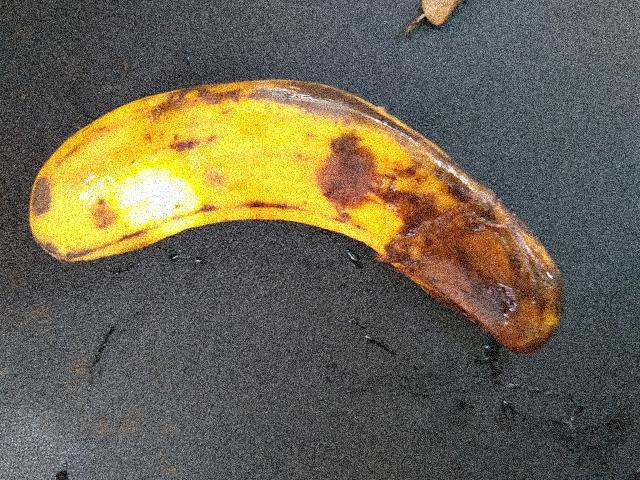rotten: (20, 47, 598, 381)
